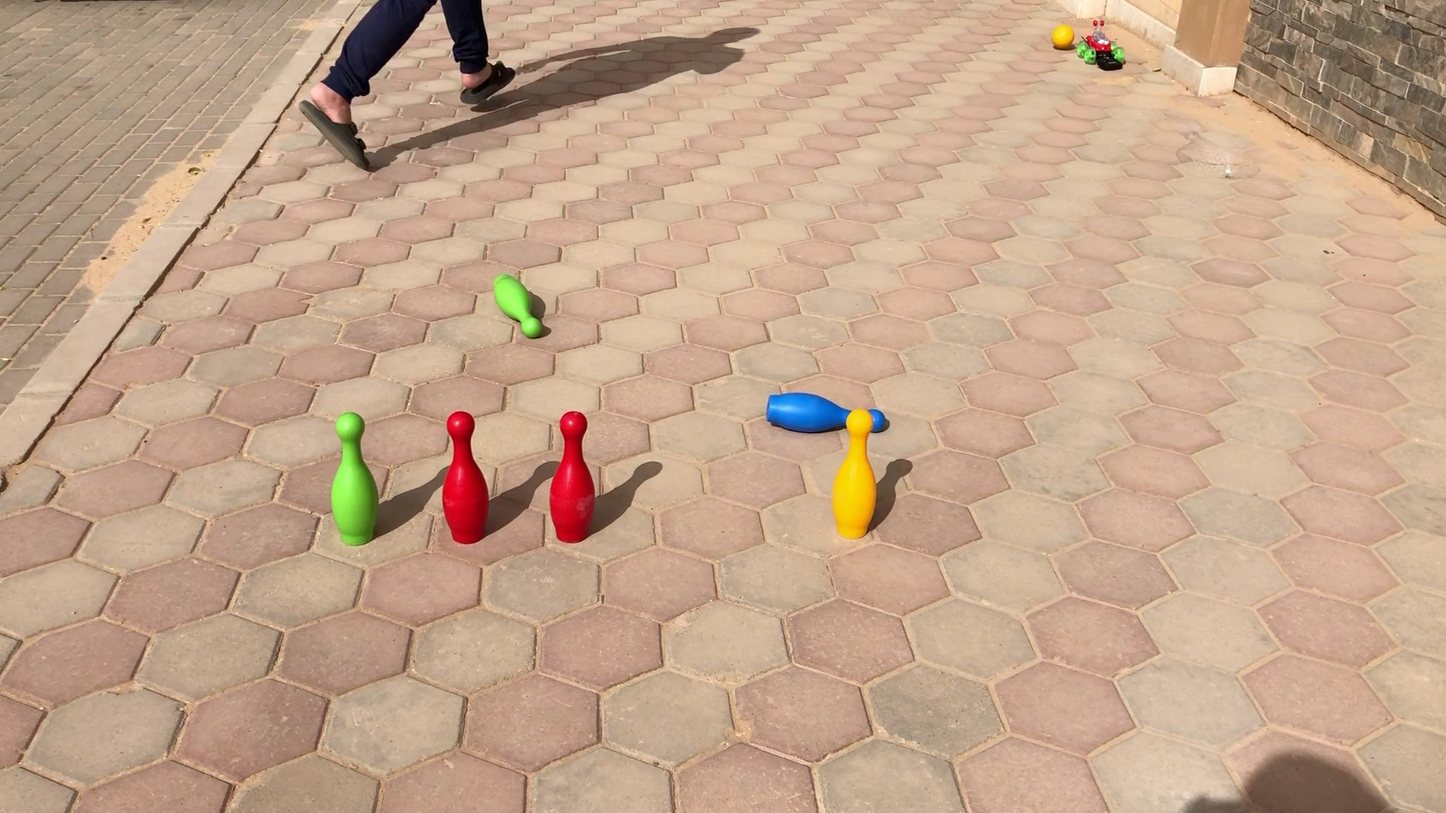pin: (756, 381, 898, 436), (441, 411, 490, 544), (330, 413, 379, 544), (832, 406, 879, 536), (548, 410, 594, 542), (476, 268, 549, 350)
